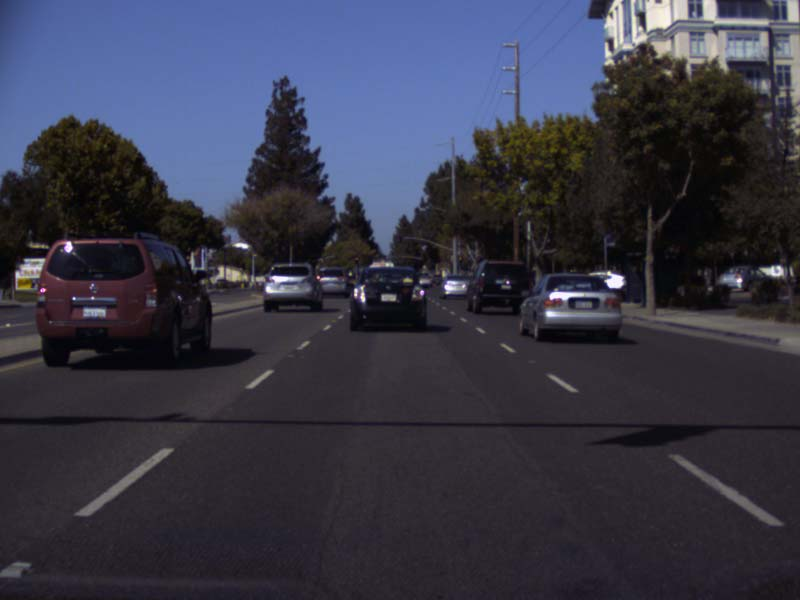Red: (457, 256, 463, 267), (354, 255, 358, 264)
